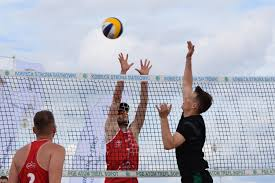ball: (101, 16, 124, 39)
